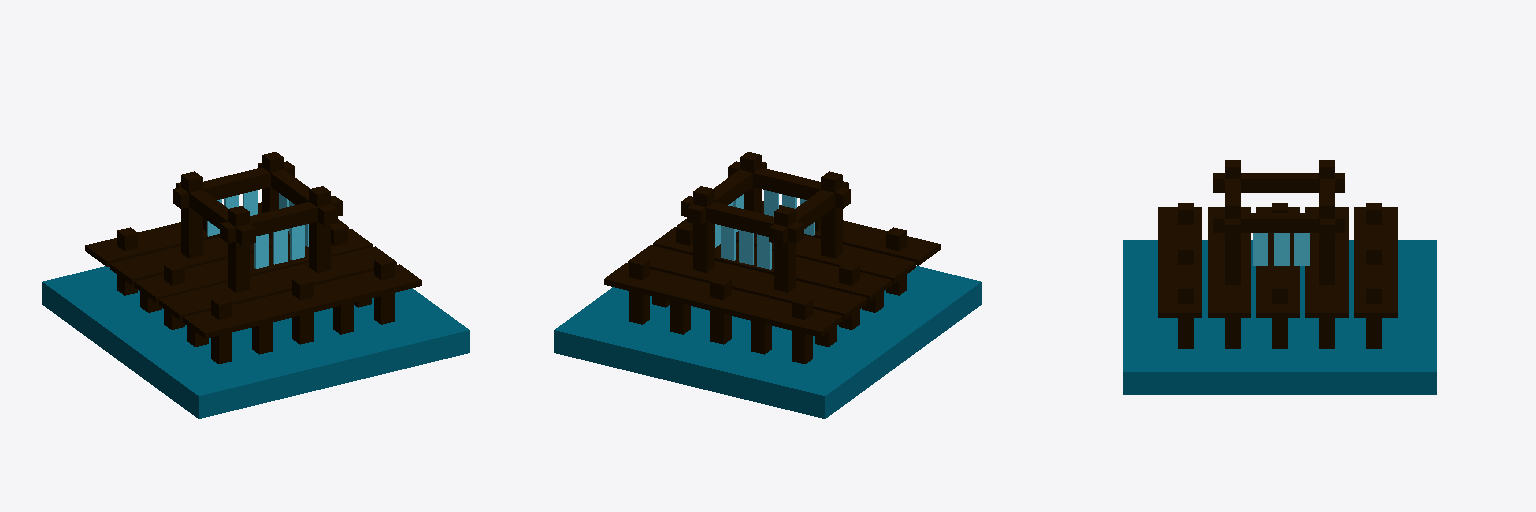
Rendered from Fishery3.obj.
3 views of the same model, side by side, from view 1: azimuth 30°, elevation 25°; view 2: azimuth 150°, elevation 25°; view 3: azimuth 270°, elevation 25° (orthographic).
Visible parts, largest first — view 1: Tilebase115, Box791, Box792, Box793, Box794, Box795, Box800, Box801, Box774, Box798, Box799, Box802 (+9 smaller); view 2: Tilebase115, Box795, Box794, Box793, Box792, Box791, Box801, Box800, Box796, Box799, Box798, Box802 (+9 smaller); view 3: Tilebase115, Box791, Box795, Box792, Box794, Box793, Box802, Box803, Box796, Box774, Box776, Box779 (+5 smaller).
Part boxes in pixels (bbox=[...]): Tilebase115: bbox=[42, 266, 469, 418]; Box791: bbox=[183, 264, 421, 338]; Box792: bbox=[159, 246, 396, 320]; Box793: bbox=[134, 229, 372, 302]; Box794: bbox=[110, 219, 348, 284]; Box795: bbox=[85, 202, 261, 266]; Box800: bbox=[220, 196, 342, 242]; Box801: bbox=[173, 161, 294, 208]; Box774: bbox=[309, 186, 330, 272]; Box798: bbox=[228, 206, 249, 292]; Box799: bbox=[181, 171, 202, 258]; Box802: bbox=[176, 182, 255, 245]; Tilebase115: bbox=[554, 266, 981, 418]; Box795: bbox=[604, 263, 842, 337]; Box794: bbox=[628, 245, 866, 318]; Box793: bbox=[653, 227, 891, 300]; Box792: bbox=[677, 219, 915, 283]; Box791: bbox=[762, 201, 940, 265]; Box801: bbox=[681, 196, 803, 243]; Box800: bbox=[728, 161, 850, 208]; Box796: bbox=[693, 186, 714, 272]; Box799: bbox=[774, 206, 795, 292]; Box798: bbox=[821, 171, 842, 258]; Box802: bbox=[769, 181, 848, 244]; Tilebase115: bbox=[1123, 240, 1436, 394]; Box791: bbox=[1158, 207, 1201, 317]; Box795: bbox=[1354, 207, 1397, 317]; Box792: bbox=[1208, 207, 1250, 317]; Box794: bbox=[1305, 207, 1348, 317]; Box793: bbox=[1256, 207, 1299, 317]; Box802: bbox=[1213, 173, 1344, 192]; Box803: bbox=[1213, 213, 1344, 232]; Box796: bbox=[1319, 200, 1334, 284]; Box774: bbox=[1225, 200, 1240, 284]; Box776: bbox=[1272, 283, 1287, 348]; Box779: bbox=[1366, 283, 1381, 348].
Bounding box in the file's own units: 10 × 5.13 × 10.